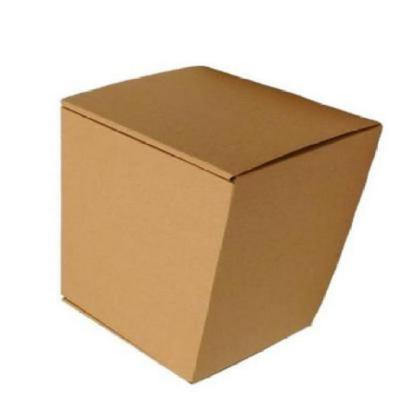-: (59, 60, 385, 385)
